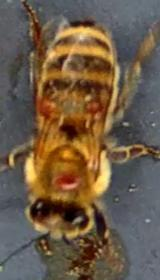varroa_mite: (46, 156, 96, 198), (30, 84, 64, 126), (78, 88, 110, 122)
